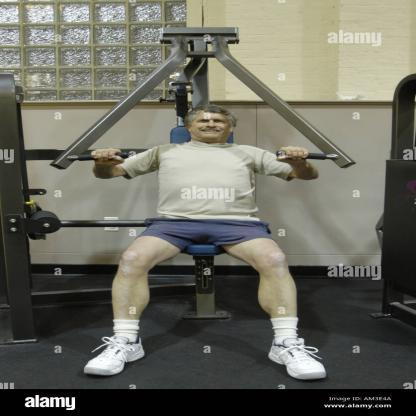Chest Press machine: (11, 23, 371, 388)
